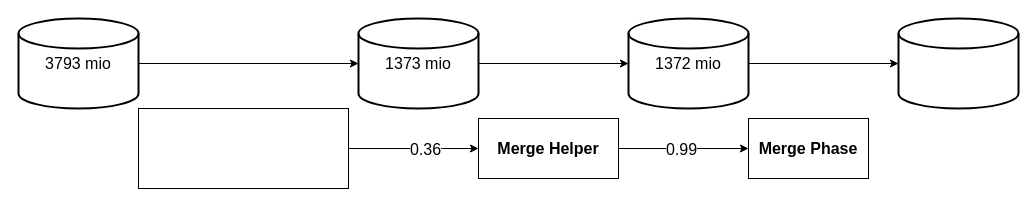
Image size: 1036x206. Some labels were removed from this diagram. The shapes that lost their labels are listed below. From the top down, each one's box as (x1, y1, x2, y2) in pixels, then its label:
(897, 17, 1019, 109): 1371 mio
(138, 108, 348, 188): Scan Phase (initial aggregation)
